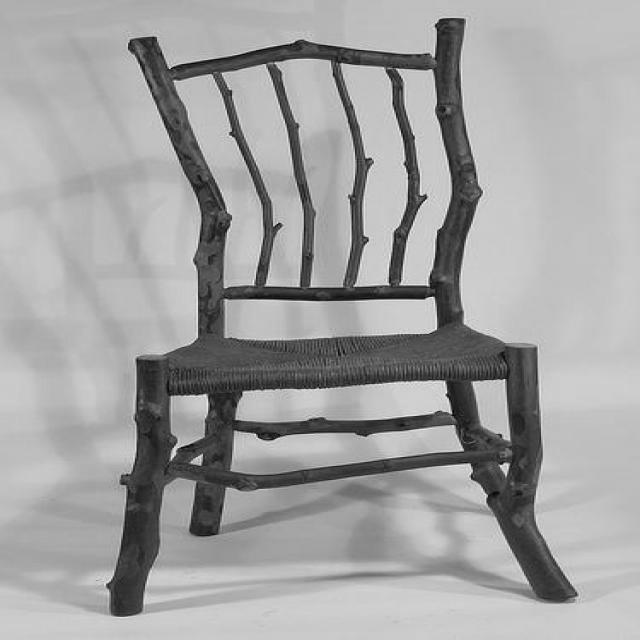chair: (111, 15, 578, 619)
